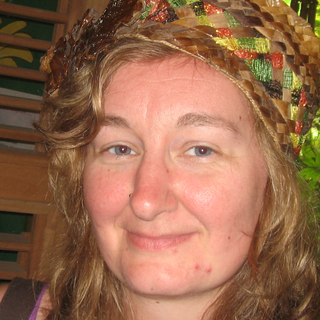eye: (178, 140, 224, 164), (96, 140, 143, 162)
